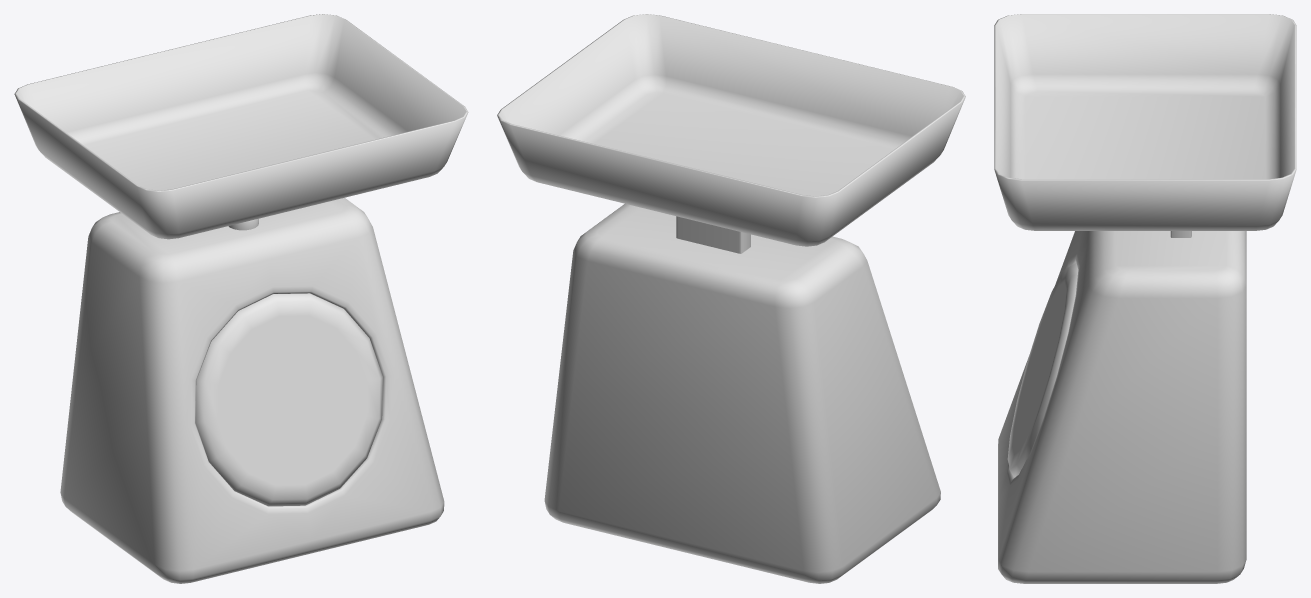
The model's file is Timbangan Bahan.fbx.
3 renders of one model, left to right at view 1: azimuth 30°, elevation 25°; view 2: azimuth 150°, elevation 25°; view 3: azimuth 270°, elevation 25°, orthographic. The views are drawn at different scales.
Parts seen in each view (by area): view 1: Timbangan Bahan, Kaca Timbangan Bahan; view 2: Timbangan Bahan; view 3: Timbangan Bahan, Kaca Timbangan Bahan.
Boxes of the visible parts, <box> form: Timbangan Bahan: <box>14,14,468,583</box>; Kaca Timbangan Bahan: <box>195,293,382,506</box>; Timbangan Bahan: <box>497,14,965,583</box>; Timbangan Bahan: <box>994,14,1296,583</box>; Kaca Timbangan Bahan: <box>1007,263,1078,477</box>.
Size of the model in its own units: 17.01 by 20 by 13.04.
2 materials, 1 textured.
